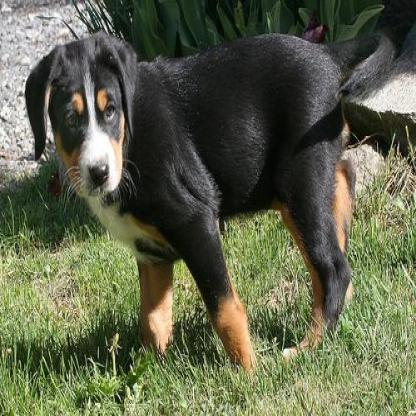Appenzeller: (23, 31, 356, 380)
